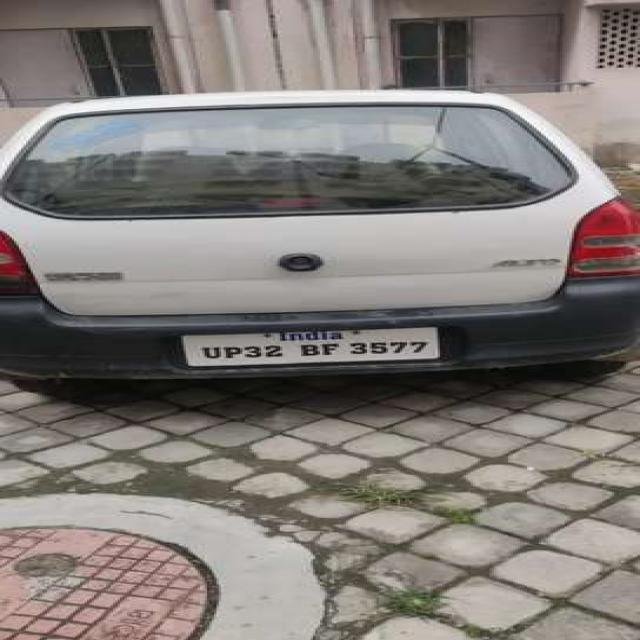Plate: (178, 326, 439, 367)
